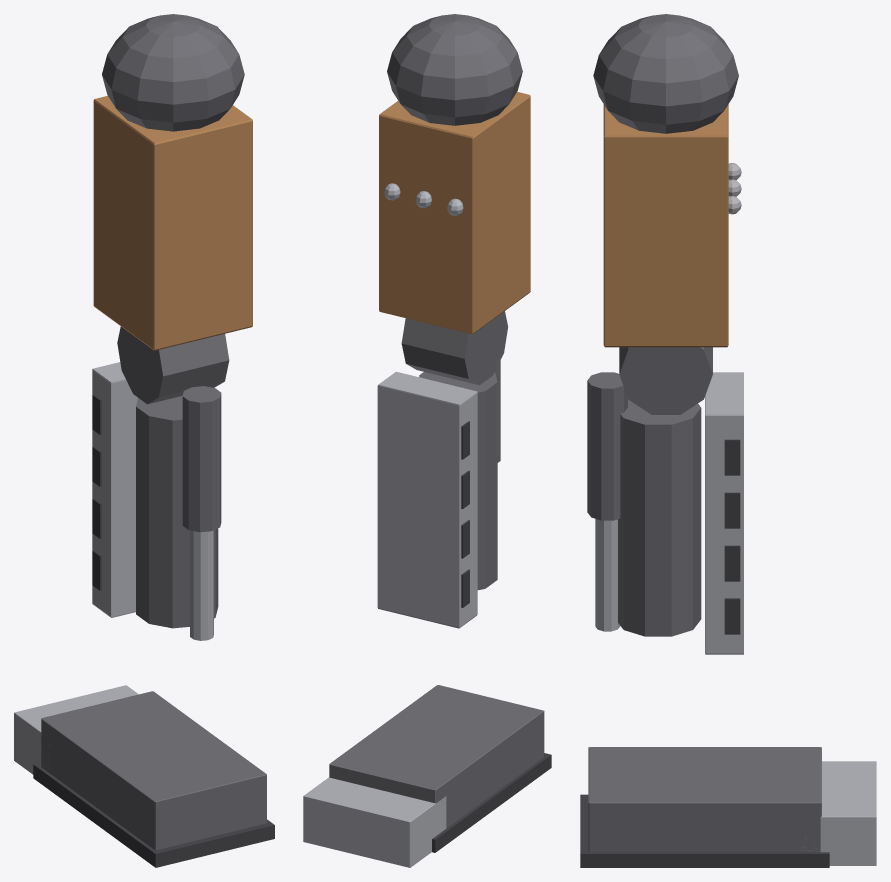
File: derby-stomp.glb
The picture shows the model from 3 angles, left to right: view 1: azimuth 30°, elevation 25°; view 2: azimuth 150°, elevation 25°; view 3: azimuth 270°, elevation 25°; orthographic projection. The views are drawn at different scales.
Visible parts, largest first — view 1: thigh, foot, hip, shin, shinguard, sleeve, knee, sole, toe, rod; view 2: thigh, shinguard, foot, hip, toe, knee, shin, sole; view 3: thigh, foot, shin, hip, shinguard, toe, knee, sleeve, sole, rod, tread3, tread0 (+2 smaller).
Part boxes in pixels (x1=…): thigh: x1=93, y1=95, x2=252, y2=350; foot: x1=41, y1=691, x2=266, y2=850; hip: x1=102, y1=14, x2=244, y2=131; shin: x1=136, y1=396, x2=218, y2=628; shinguard: x1=92, y1=362, x2=137, y2=617; sleeve: x1=182, y1=386, x2=221, y2=532; knee: x1=117, y1=326, x2=229, y2=404; sole: x1=33, y1=764, x2=274, y2=867; toe: x1=14, y1=685, x2=138, y2=774; rod: x1=190, y1=530, x2=213, y2=640; thigh: x1=379, y1=92, x2=530, y2=334; shinguard: x1=377, y1=371, x2=477, y2=628; foot: x1=329, y1=685, x2=544, y2=828; hip: x1=387, y1=14, x2=522, y2=125; toe: x1=303, y1=777, x2=446, y2=867; knee: x1=401, y1=311, x2=507, y2=385; shin: x1=419, y1=372, x2=497, y2=590; sole: x1=432, y1=753, x2=551, y2=852; thigh: x1=603, y1=104, x2=728, y2=347; foot: x1=588, y1=747, x2=821, y2=852; shin: x1=618, y1=399, x2=701, y2=636; hip: x1=593, y1=14, x2=738, y2=133; shinguard: x1=705, y1=372, x2=743, y2=654; toe: x1=802, y1=761, x2=876, y2=865; knee: x1=619, y1=347, x2=712, y2=414; sleeve: x1=587, y1=372, x2=627, y2=520; sole: x1=580, y1=794, x2=829, y2=867; rod: x1=595, y1=519, x2=620, y2=631; tread3: x1=724, y1=598, x2=740, y2=634; tread0: x1=724, y1=439, x2=740, y2=475.
Size of the model in its own units: 0.187 by 1.16 by 0.38.
